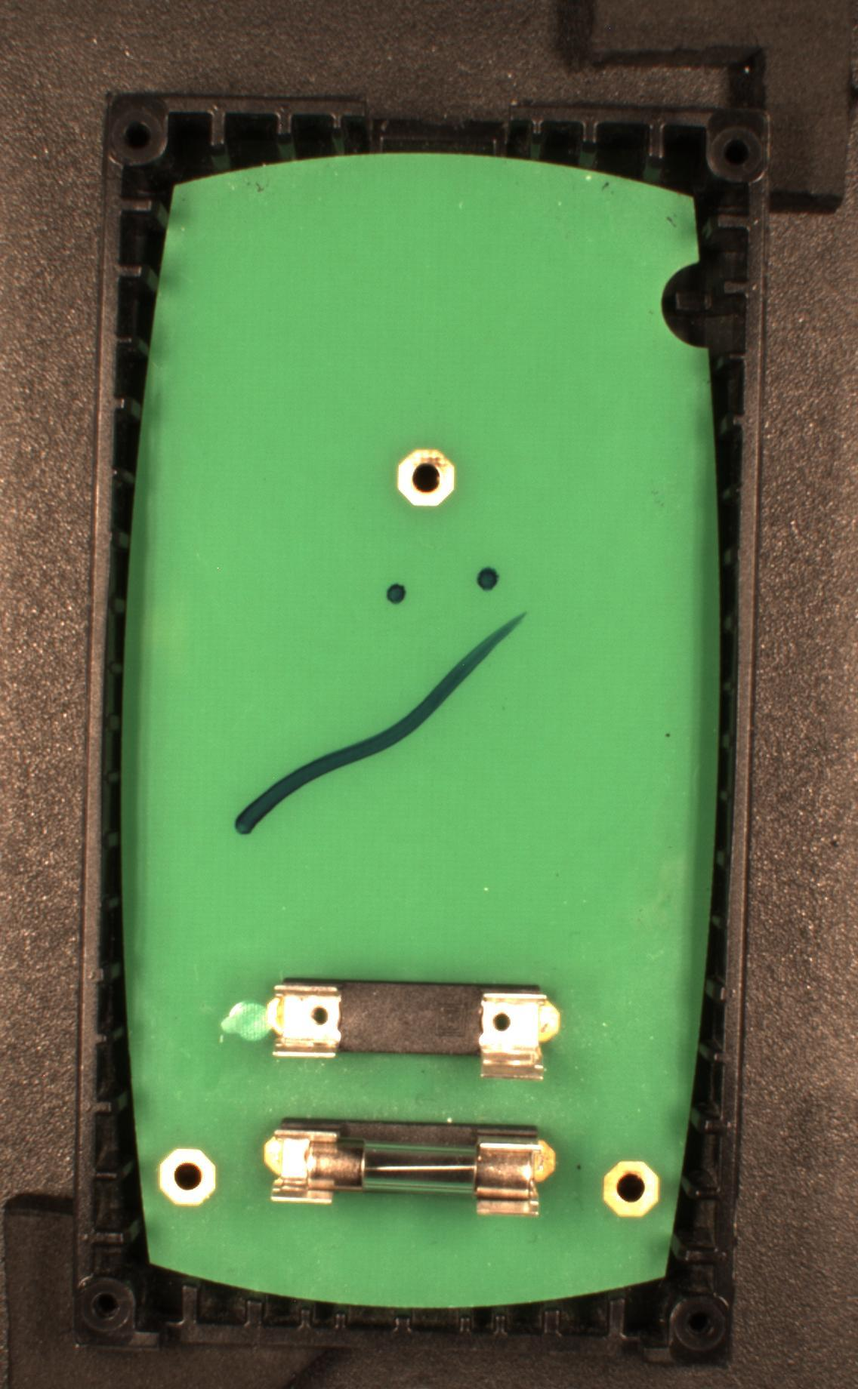Linijsko Ostecene: (232, 608, 533, 839)
Nepostojanje osiguraca: (264, 973, 565, 1085)
Tockasto Ostecenje: (475, 565, 502, 594), (385, 583, 408, 606)
